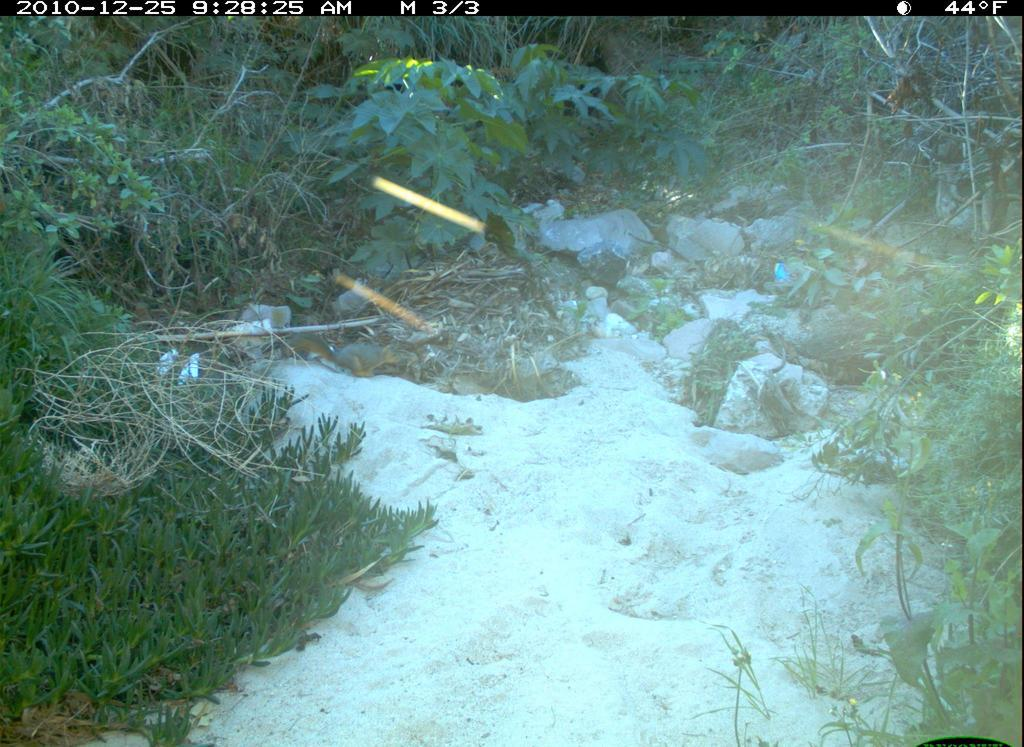squirrel: (281, 326, 410, 383)
